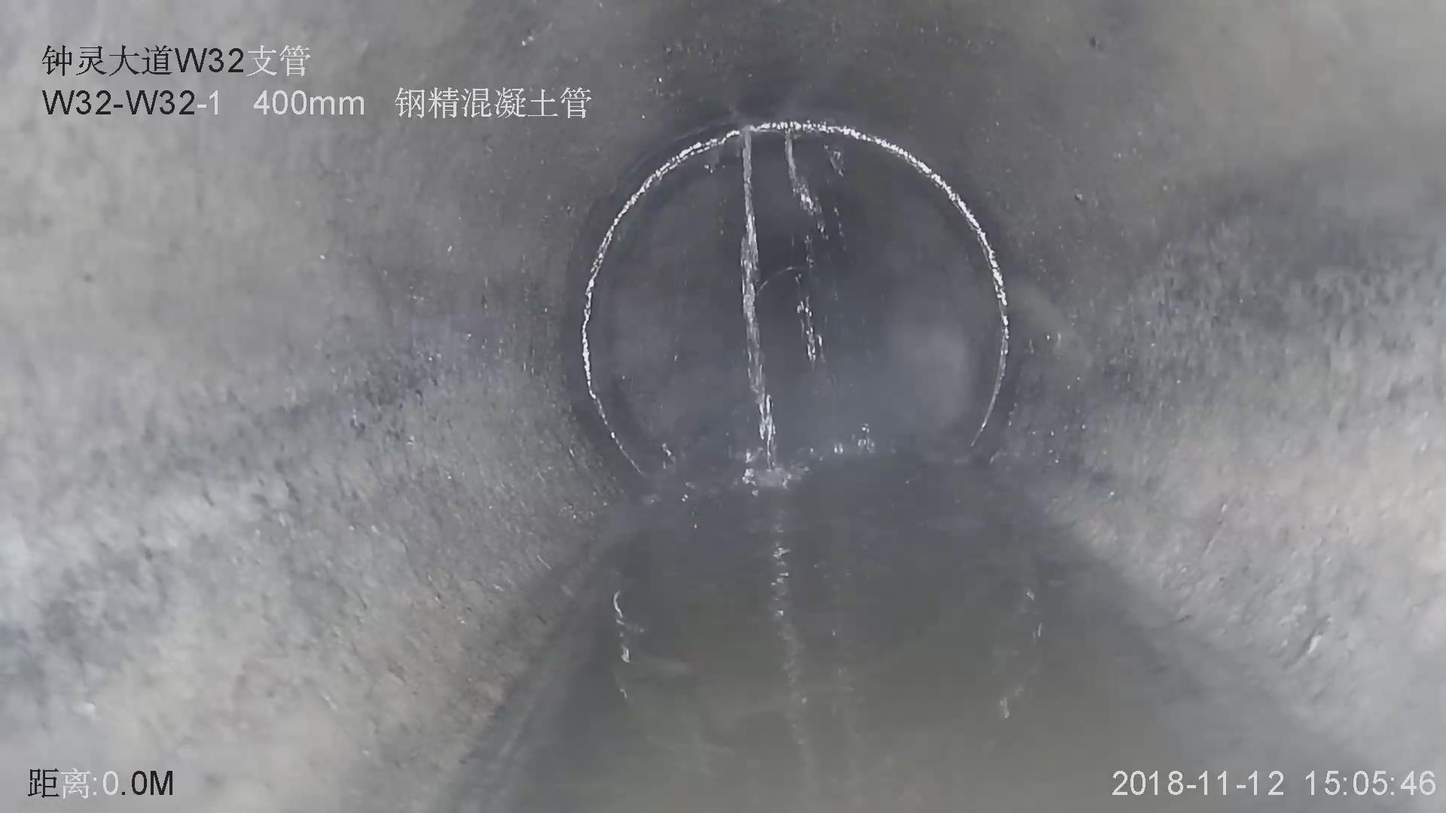SL: (714, 120, 890, 493)
